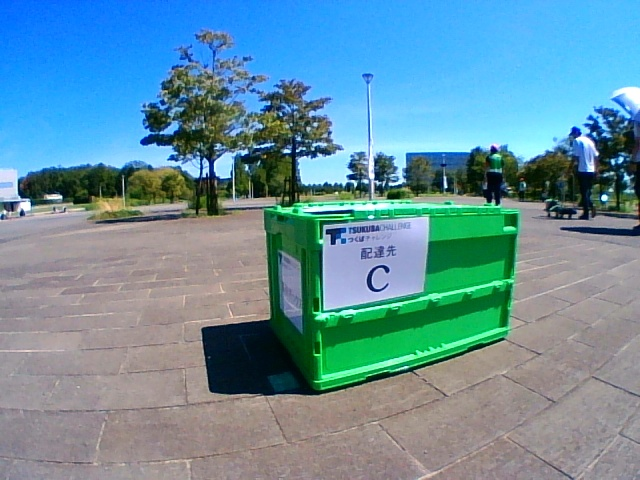green_box: (263, 201, 519, 389)
tag_c: (333, 224, 423, 293)
